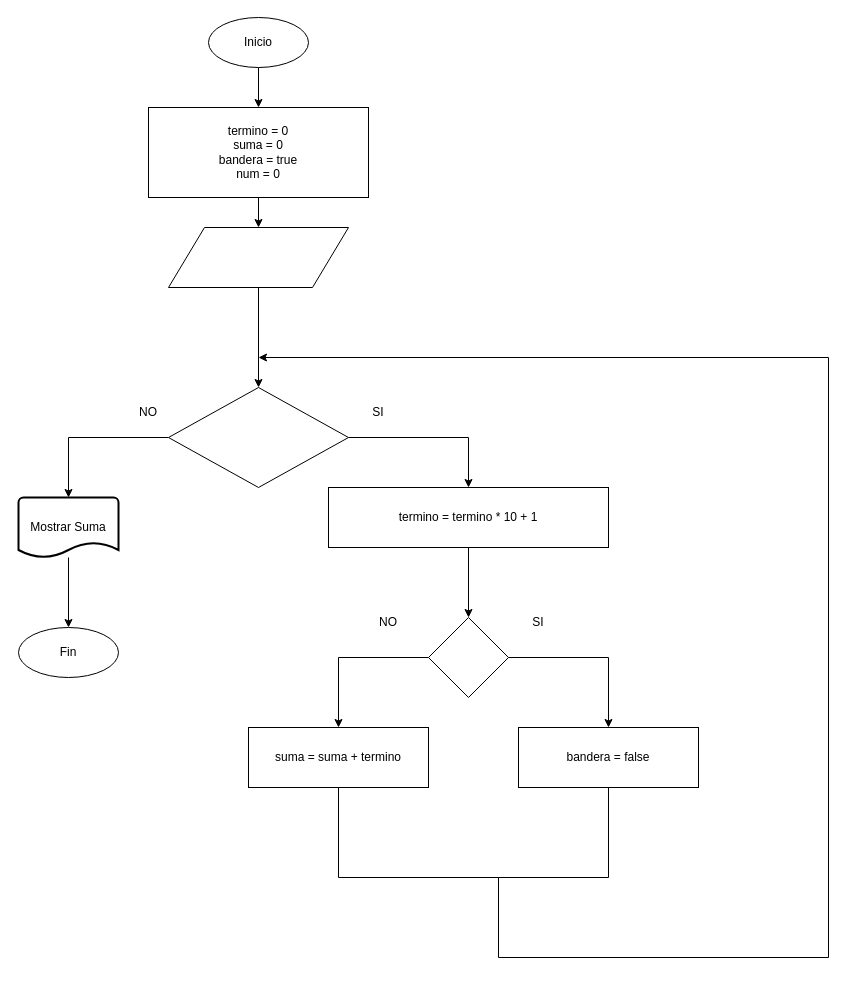
Image size: 854x983. Some labels were removed from this diagram. The shapes that lost their labels are listed below. From the top down, each one's box as (x1, y1, x2, y2) in pixels, then its label:
(168, 226, 348, 288): Leer num
(168, 386, 348, 488): bandera == true
(428, 616, 508, 698): termino > num
